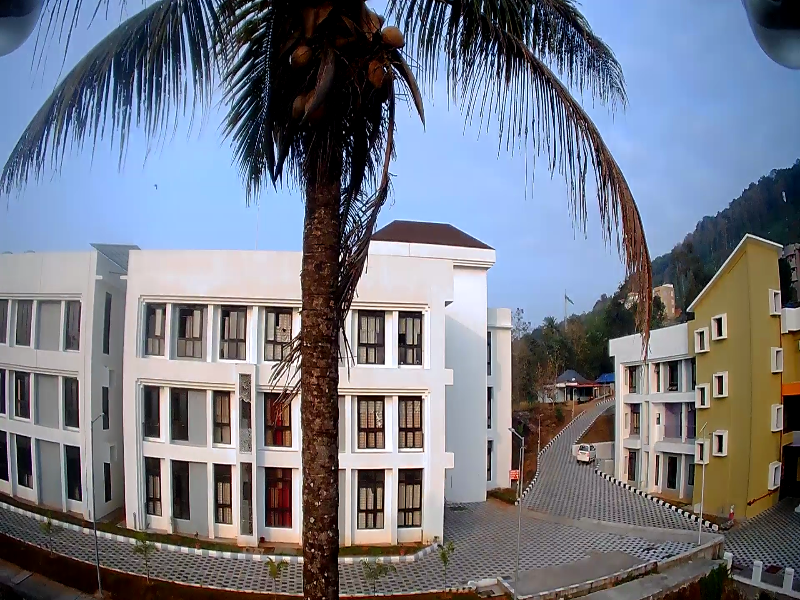coconut: (282, 41, 314, 73), (362, 60, 391, 95), (381, 20, 411, 50), (302, 89, 321, 116), (288, 93, 301, 123)
